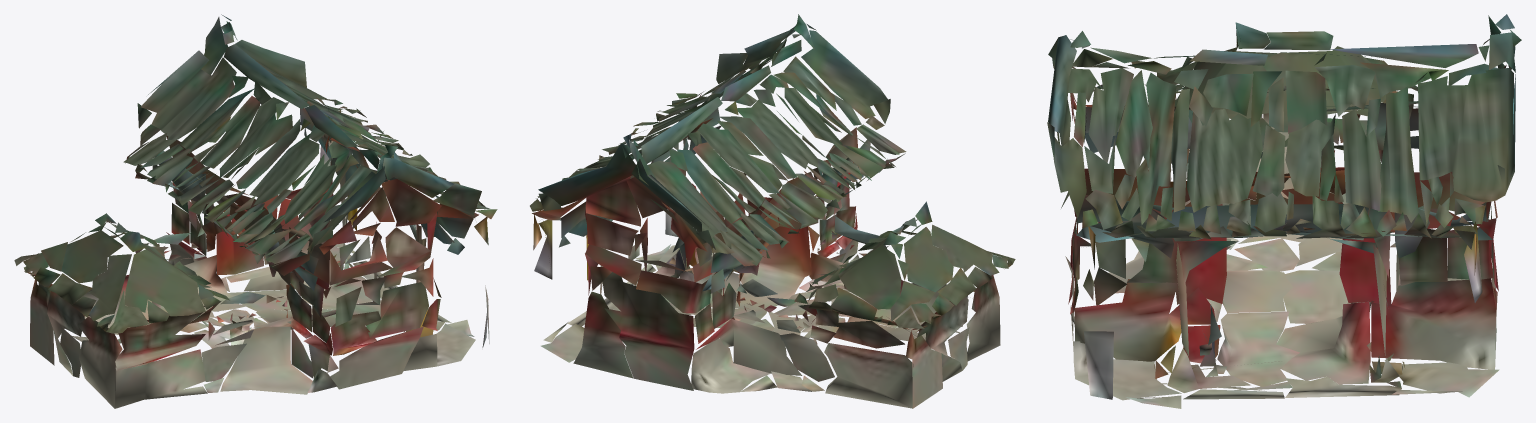
Rendered from preview.glb.
3 renders of one model, left to right at view 1: azimuth 30°, elevation 25°; view 2: azimuth 150°, elevation 25°; view 3: azimuth 270°, elevation 25°, orthographic. The views are drawn at different scales.
Parts seen in each view (by area): view 1: gongwang/tripo_node_20a4c36f-6704-4d3d-b611-664f205ae60d; view 2: gongwang/tripo_node_20a4c36f-6704-4d3d-b611-664f205ae60d; view 3: gongwang/tripo_node_20a4c36f-6704-4d3d-b611-664f205ae60d.
Boxes of the visible parts, left/top/right/bottom form: gongwang/tripo_node_20a4c36f-6704-4d3d-b611-664f205ae60d: left=14, top=14, right=497, bottom=408; gongwang/tripo_node_20a4c36f-6704-4d3d-b611-664f205ae60d: left=530, top=14, right=1015, bottom=408; gongwang/tripo_node_20a4c36f-6704-4d3d-b611-664f205ae60d: left=1047, top=14, right=1521, bottom=408.
Bounding box in the file's own units: 0.4204 × 0.274 × 0.3597.
1 material, 1 textured.
